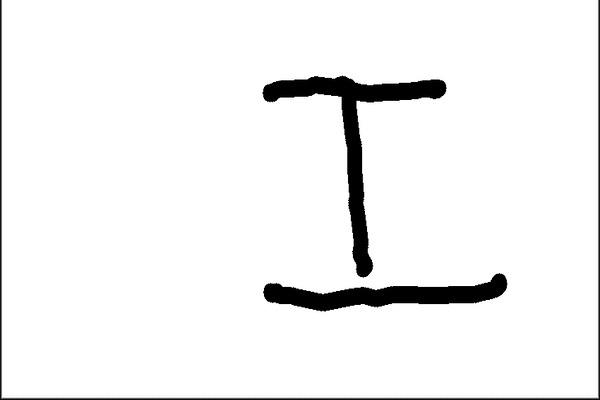i: (250, 68, 513, 315)
